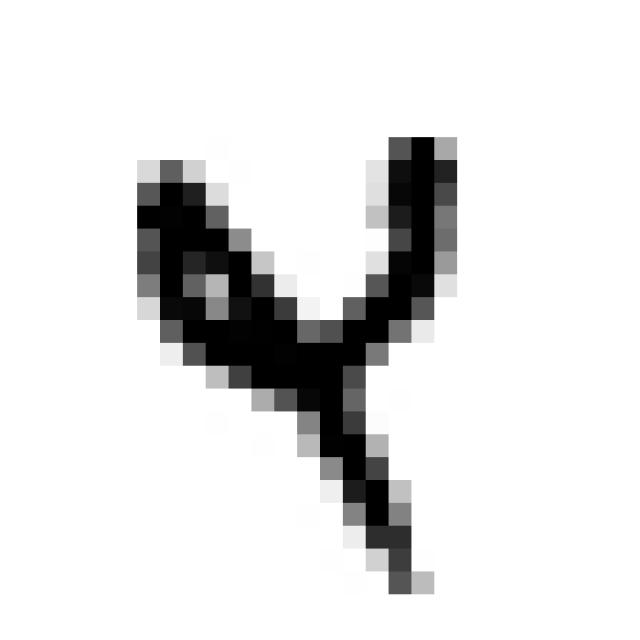3 -three-: (112, 126, 460, 618)
